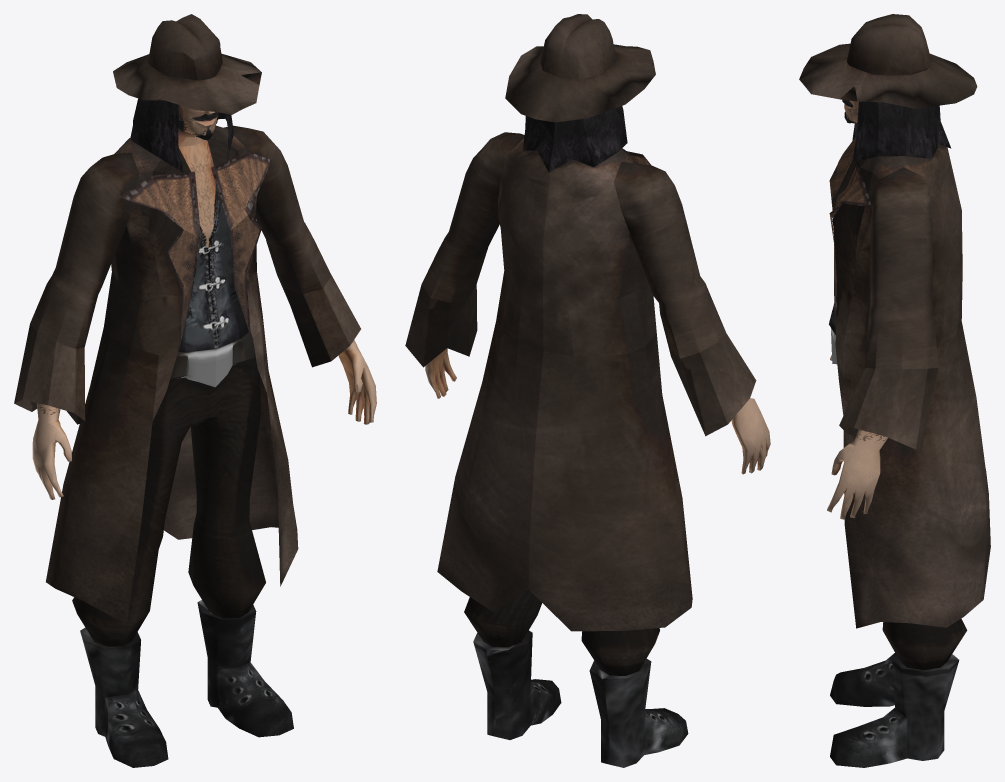
File: beast_hunter_character_model.glb
3 renders of one model, left to right at view 1: azimuth 30°, elevation 25°; view 2: azimuth 150°, elevation 25°; view 3: azimuth 270°, elevation 25°, orthographic.
Parts seen in each view (by area): view 1: Object_2; view 2: Object_2; view 3: Object_2.
Boxes of the visible parts, x1=… form: Object_2: x1=14, y1=14, x2=376, y2=767; Object_2: x1=405, y1=14, x2=770, y2=767; Object_2: x1=799, y1=14, x2=990, y2=767.
Size of the model in its own units: 4.33 by 8.77 by 2.16.
1 material, 1 textured.
